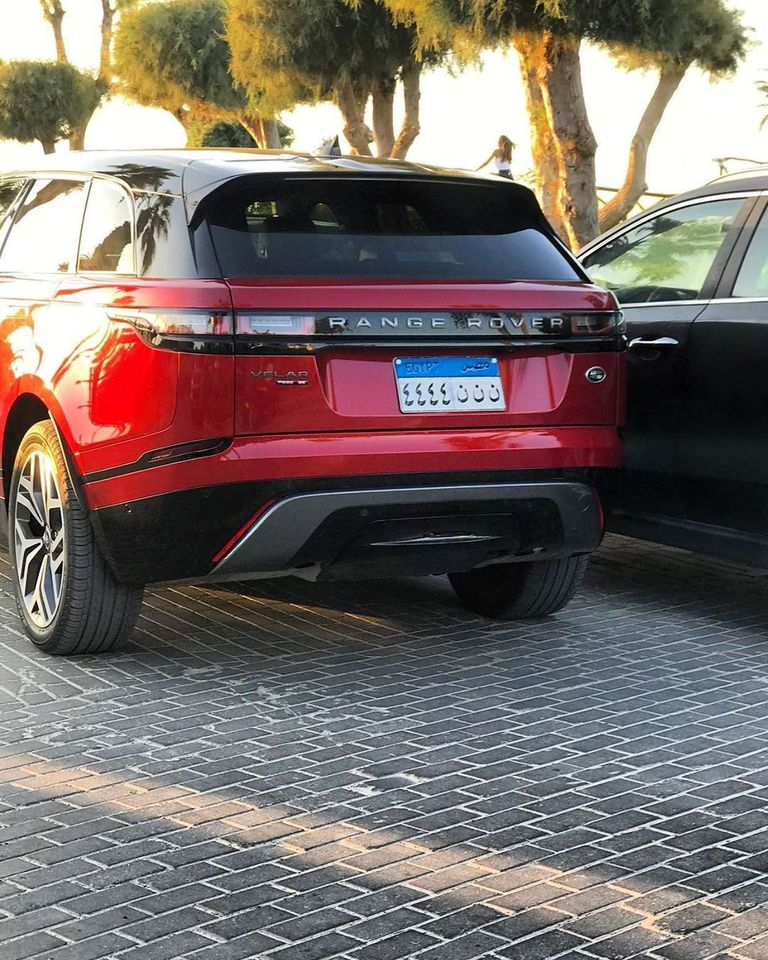carpl: (398, 360, 506, 413)
